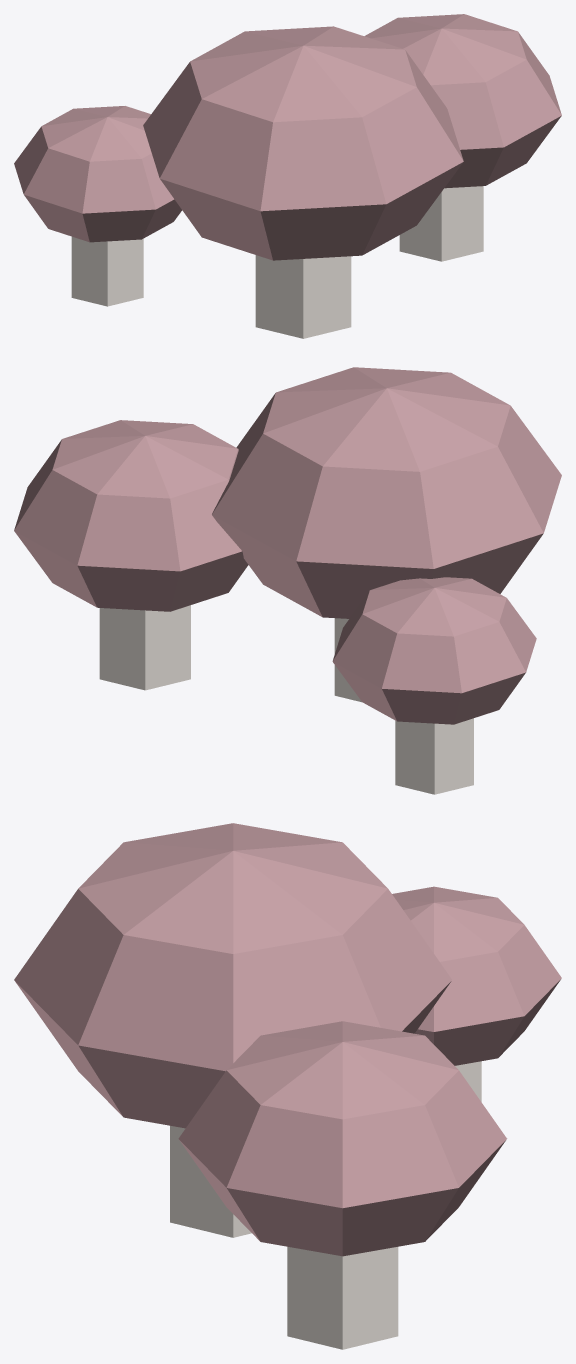
Rendered from mushrooms.glb.
The picture shows the model from 3 angles, top to bottom: view 1: azimuth 30°, elevation 25°; view 2: azimuth 150°, elevation 25°; view 3: azimuth 270°, elevation 25°; orthographic projection. The views are drawn at different scales.
Visible parts, largest first — view 1: C0, C1, C2, S0, S1, S2; view 2: C0, C1, C2, S1, S2, S0; view 3: C0, C1, C2, S1, S0.
Part boxes in pixels (x1=…): C0: x1=143, y1=26, x2=463, y2=260; C1: x1=364, y1=14, x2=561, y2=188; C2: x1=14, y1=106, x2=181, y2=242; S0: x1=255, y1=255, x2=351, y2=338; S1: x1=399, y1=186, x2=483, y2=261; S2: x1=71, y1=236, x2=143, y2=306; C0: x1=212, y1=367, x2=561, y2=618; C1: x1=14, y1=420, x2=248, y2=611; C2: x1=332, y1=577, x2=536, y2=724; S1: x1=99, y1=605, x2=190, y2=690; S2: x1=395, y1=718, x2=473, y2=794; S0: x1=334, y1=618, x2=361, y2=702; C0: x1=14, y1=823, x2=451, y2=1128; C1: x1=178, y1=1021, x2=506, y2=1256; C2: x1=392, y1=886, x2=561, y2=1065; S1: x1=287, y1=1246, x2=398, y2=1349; S0: x1=170, y1=1125, x2=251, y2=1237.
Size of the model in its own units: 0.82 by 0.4303 by 0.6.
